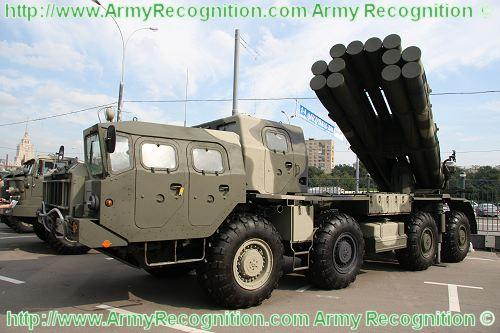MIL_SAM_TEL: (36, 26, 480, 308)
